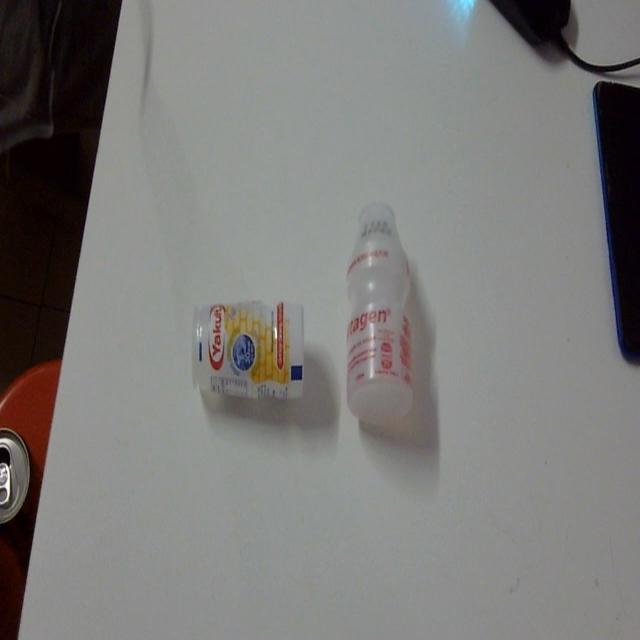plastic_laydown_0rotation: (184, 291, 309, 414)
plastic_laydown_90rotation: (335, 195, 426, 428)
